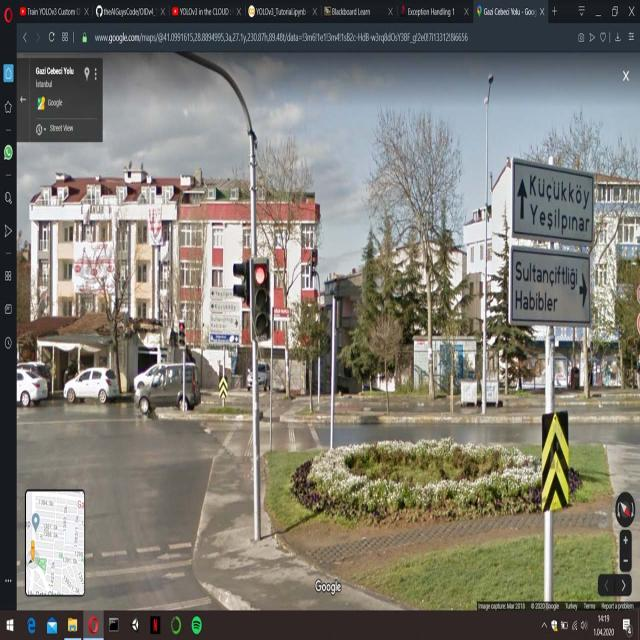kirmizi: (251, 261, 271, 336)
